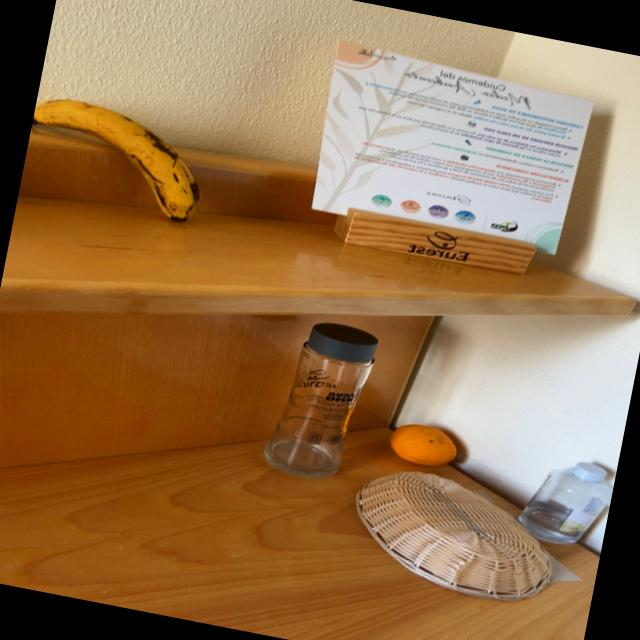bananas: (32, 101, 199, 221)
orange: (391, 425, 456, 466)
